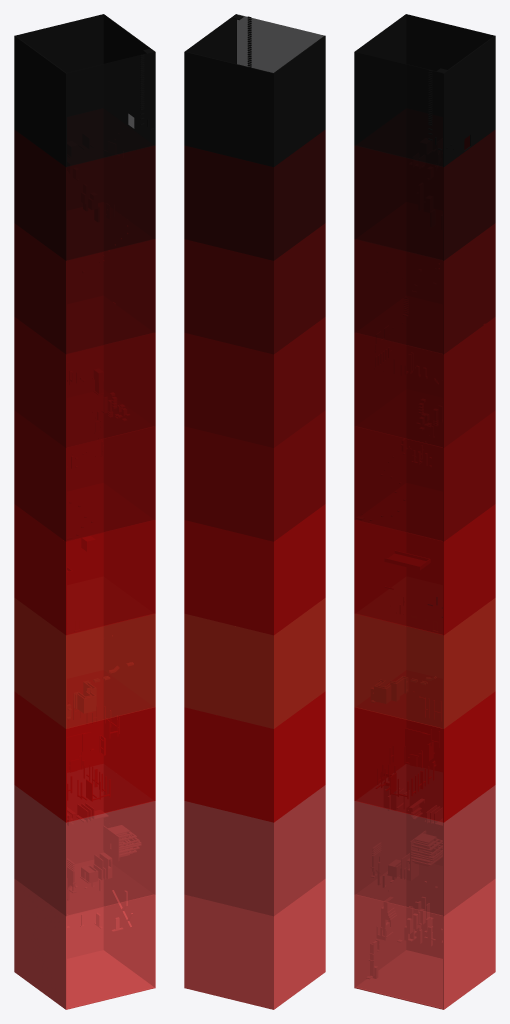
File: tots.glb
The picture shows the model from 3 angles, left to right: view 1: azimuth 30°, elevation 25°; view 2: azimuth 150°, elevation 25°; view 3: azimuth 330°, elevation 25°; orthographic projection.
Visible parts, largest first — view 1: tots; view 2: tots; view 3: tots.
Boxes of the visible parts, x1,y1,x2,y2 form: tots: (14, 14, 155, 1009); tots: (184, 14, 325, 1009); tots: (354, 14, 495, 1009).
Size of what is drawn, in the model's own units: 102 by 1010 by 102.
